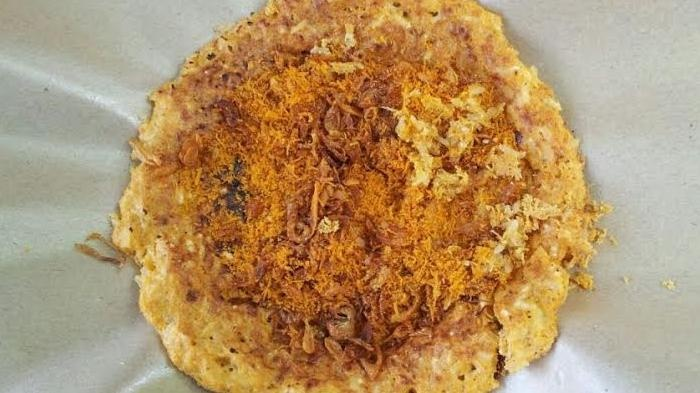kerak_telor: (88, 2, 611, 393)
